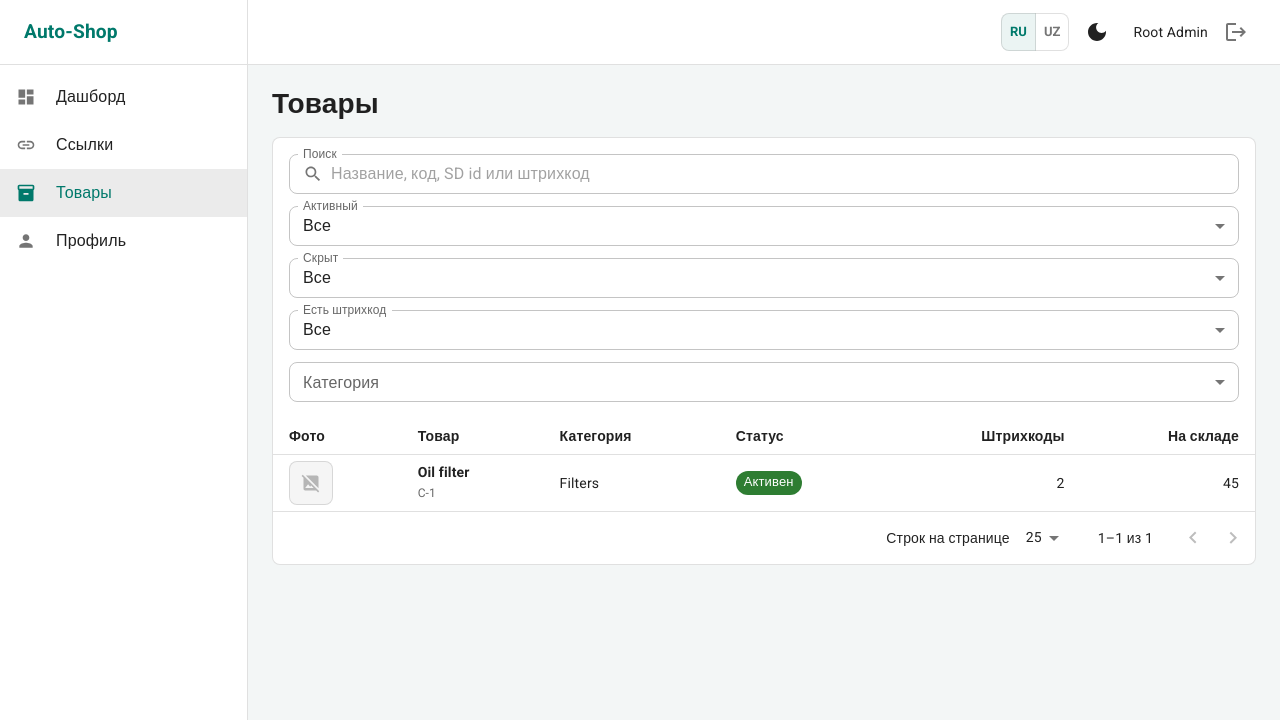
Scenario: admin products › viewers (no products.write) see the data but no edit controls
Click the button named "Открыть товар: Oil filter" at (764, 483), box [273,454,1255,511]
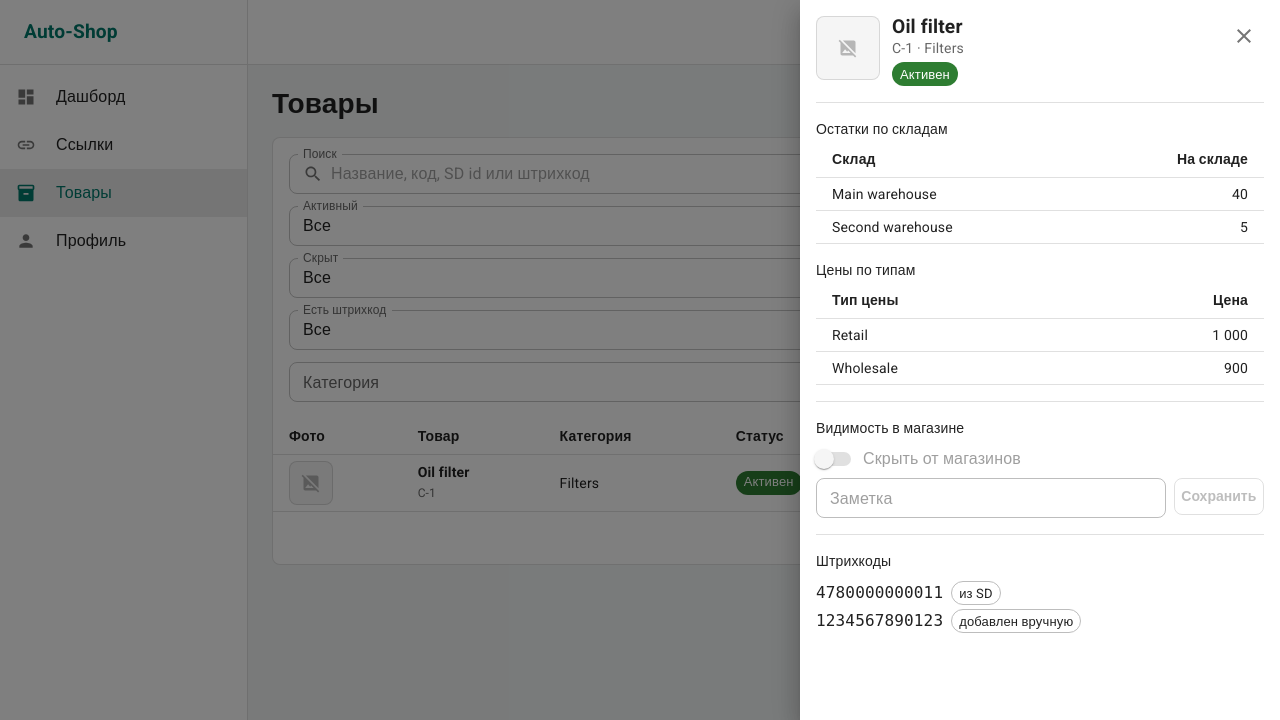
Expected: the checkbox labelled "Скрыть от магазинов" is disabled, [814,449,1021,469]
